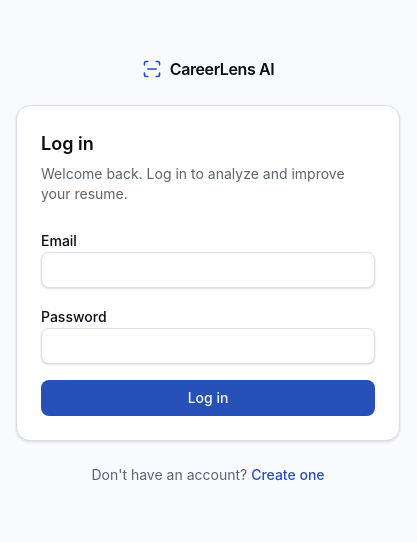
Test: LoginPage › surfaces a failed sign in without crashing
This screenshot has width=417, height=542.
Type "jane@example.com" into the field labelled "Email" at [208, 270], box [41,252,375,288]
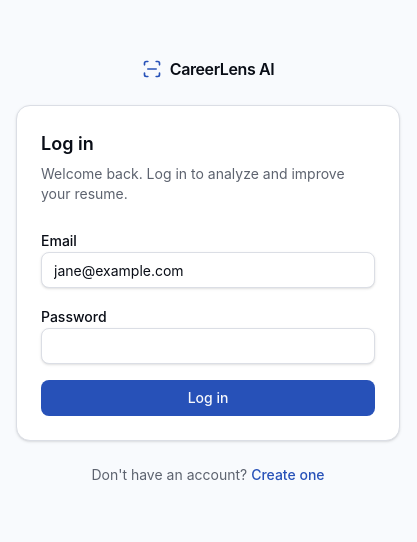
Type "wrong-password" into the password field labelled "Password" at [208, 346], box [41,328,375,364]
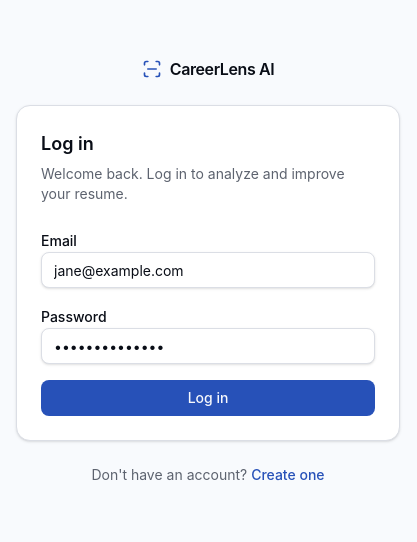
Click the button "Log in" at [208, 398], box [41,380,375,416]
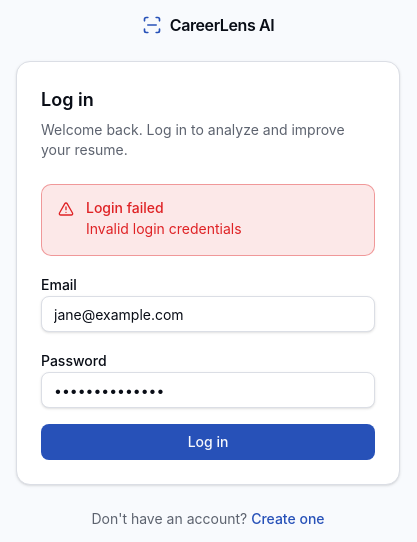
Expected: the text "Invalid login credentials" is shown, [86,219,242,239]
